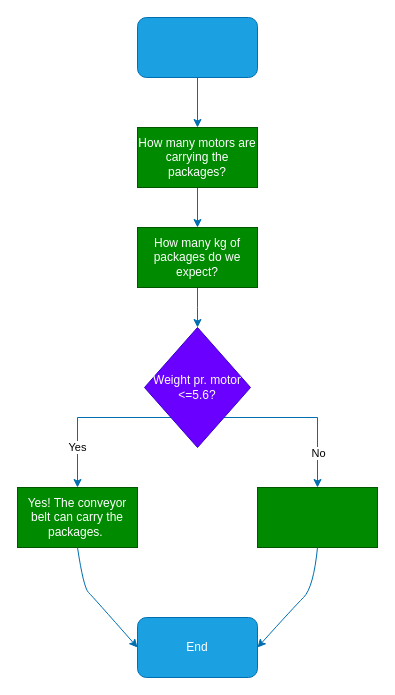
This 395x695 diagram has some shape labels left out. The box of each missing label's shape, as (x1, y1, x2, y2) in pixels:
No! The conveyor belt cannot carry the packages.: (256, 486, 378, 548)
Start: (136, 16, 258, 78)
